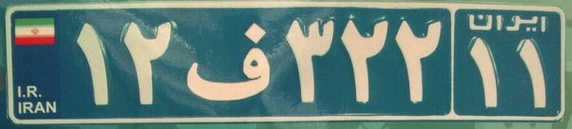1: (69, 17, 121, 111), (464, 32, 507, 114), (514, 34, 551, 113)
2: (119, 16, 178, 109), (391, 15, 447, 107), (337, 14, 391, 107)
3: (281, 14, 339, 105)
ف: (182, 18, 278, 104)
